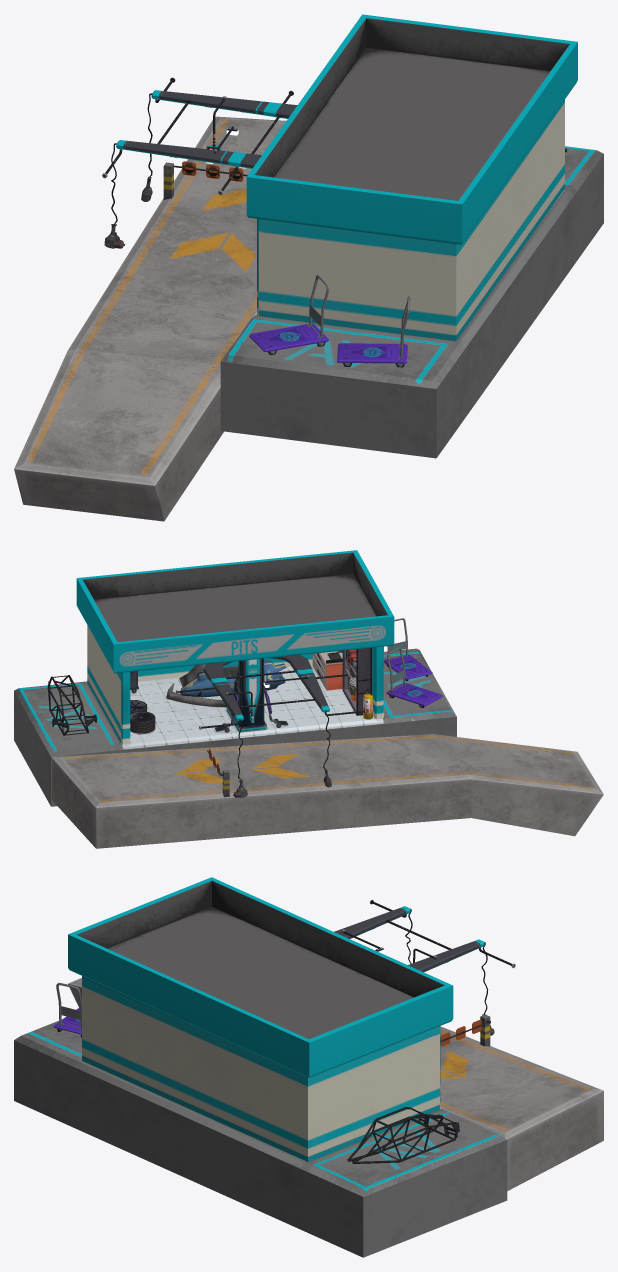
Rendered from PITS.fbx.
3 renders of one model, top to bottom at view 1: azimuth 30°, elevation 25°; view 2: azimuth 150°, elevation 25°; view 3: azimuth 270°, elevation 25°, orthographic. The views are drawn at different scales.
Parts seen in each view (by area): view 1: LUGAR, rampa, aire_general, Carretilla, PARAR; view 2: LUGAR, rampa, aire_general, CARROCERIA_REP, Carretilla, ESTANTE, chasis_inferior, MESA, llantas.001; view 3: LUGAR, rampa, aire_general, chasis_inferior, Carretilla, PARAR, Chasis_superior.
Boxes of the visible parts, <box> form: LUGAR: <box>220,14,603,458</box>; rampa: <box>14,116,285,521</box>; aire_general: <box>102,77,297,195</box>; Carretilla: <box>249,275,410,367</box>; PARAR: <box>163,161,247,199</box>; LUGAR: <box>14,550,456,806</box>; rampa: <box>51,734,603,848</box>; aire_general: <box>176,655,365,732</box>; CARROCERIA_REP: <box>166,660,286,707</box>; Carretilla: <box>384,618,443,707</box>; ESTANTE: <box>342,647,371,715</box>; chasis_inferior: <box>47,680,97,735</box>; MESA: <box>312,650,342,690</box>; llantas.001: <box>130,700,155,733</box>; LUGAR: <box>14,877,507,1257</box>; rampa: <box>68,978,603,1190</box>; aire_general: <box>334,900,515,972</box>; chasis_inferior: <box>347,1112,459,1163</box>; Carretilla: <box>53,982,81,1037</box>; PARAR: <box>440,1014,490,1046</box>; Chasis_superior: <box>357,1107,445,1153</box>.
Bounding box in the file's own units: 2034 × 713 × 1678.
